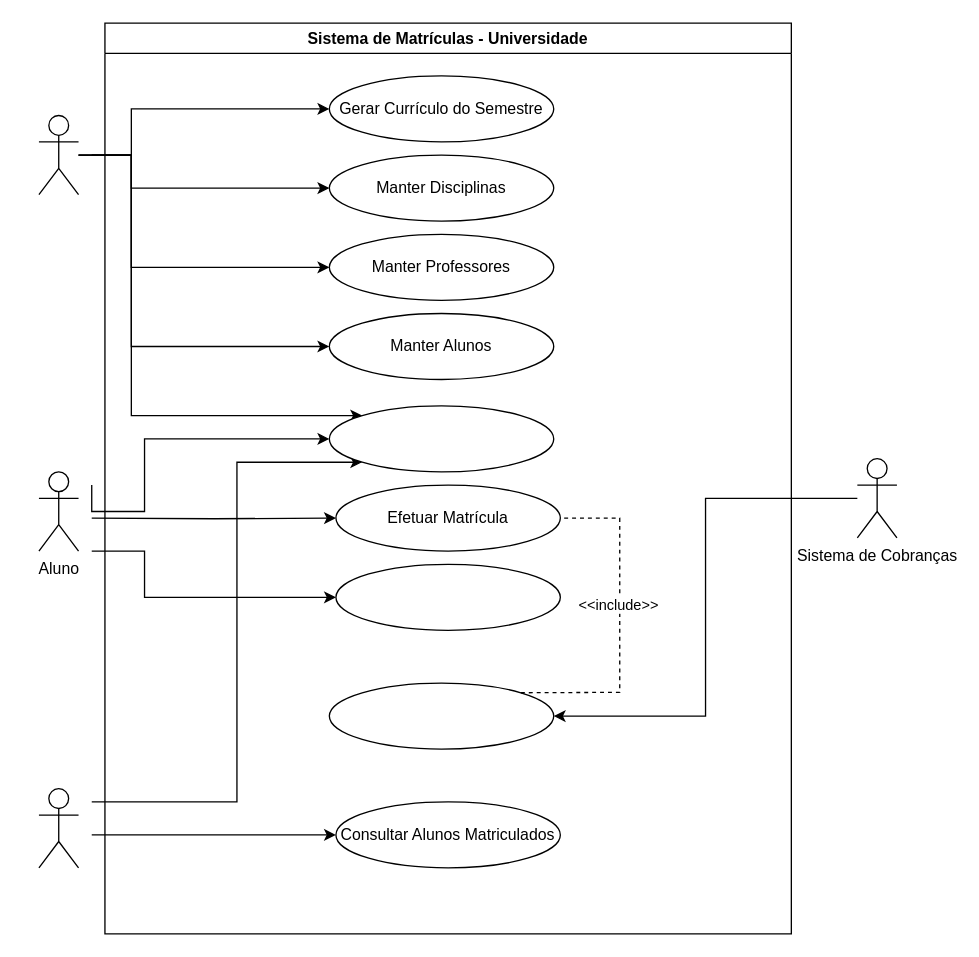
The diagram is 979 pixels wide and 957 high, and some of its shapes have lost their labels. The box of each missing label's shape, as (x1, y1, x2, y2) in pixels:
Cancelar Matrícula: (335, 563, 560, 630)
Notificar Sistema de Cobranças: (328, 682, 554, 749)
Professor: (38, 787, 79, 868)
Realizar Login: (328, 405, 554, 472)
Secretaria: (38, 114, 79, 195)
